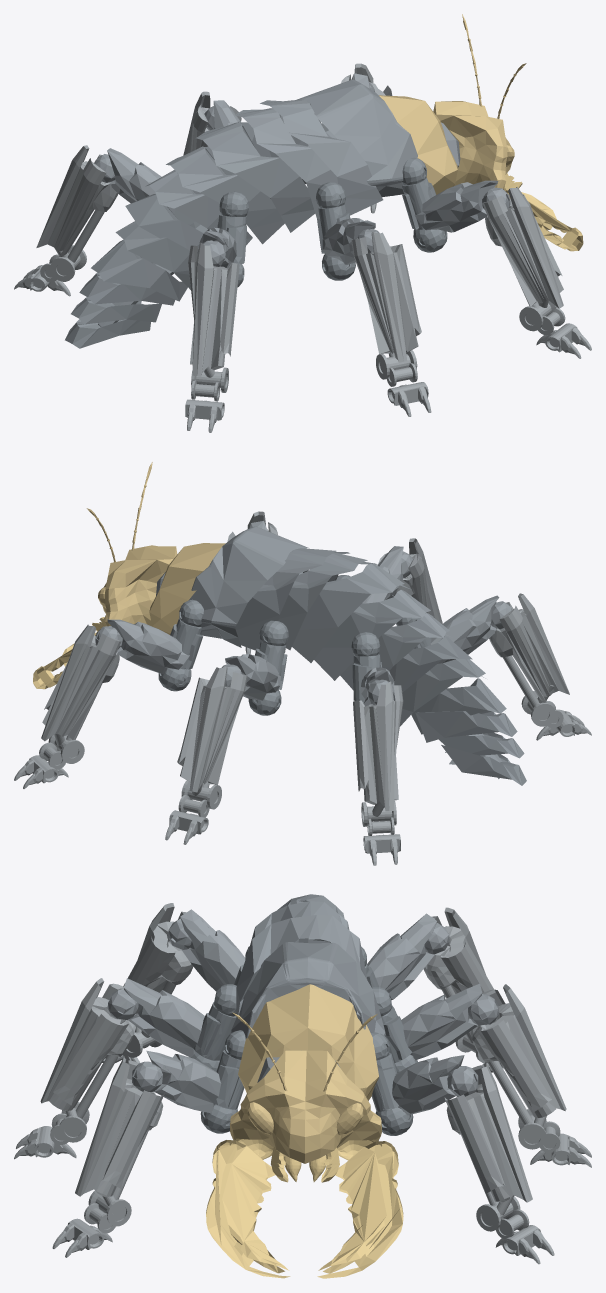
3 views of the same model, one above another, from view 1: azimuth 30°, elevation 25°; view 2: azimuth 150°, elevation 25°; view 3: azimuth 270°, elevation 25° (orthographic). The views are drawn at different scales.
Visible parts, largest first — view 1: trunk, tail, head, LM_tibia, LF_tibia, LH_tibia, RH_tibia, LF_femur, LF_coxa, RH_femur, LM_coxa, LM_femur (+5 smaller); view 2: trunk, tail, head, RM_tibia, RF_tibia, RH_tibia, LH_tibia, RF_femur, LH_femur, RF_coxa, RM_coxa, RM_femur (+5 smaller); view 3: head, trunk, LF_tibia, RM_tibia, RF_tibia, LM_tibia, mandible_R, mandible_L, LM_femur, RM_femur, LH_tibia, LF_femur (+8 smaller).
Part boxes in pixels (bbox=[...]): trunk: bbox=[98, 79, 460, 326]; tail: bbox=[65, 194, 203, 348]; head: bbox=[379, 14, 526, 194]; LM_tibia: bbox=[351, 232, 431, 416]; LF_tibia: bbox=[482, 187, 591, 358]; LH_tibia: bbox=[185, 242, 239, 432]; RH_tibia: bbox=[14, 145, 117, 296]; LF_femur: bbox=[414, 180, 510, 232]; LF_coxa: bbox=[401, 157, 447, 252]; RH_femur: bbox=[94, 148, 161, 203]; LM_coxa: bbox=[316, 182, 355, 280]; LM_femur: bbox=[322, 218, 379, 264]; trunk: bbox=[156, 526, 502, 778]; tail: bbox=[389, 636, 526, 785]; head: bbox=[86, 462, 225, 634]; RM_tibia: bbox=[165, 666, 247, 844]; RF_tibia: bbox=[14, 624, 121, 788]; RH_tibia: bbox=[353, 681, 403, 865]; LH_tibia: bbox=[489, 593, 591, 740]; RF_femur: bbox=[95, 619, 189, 674]; LH_femur: bbox=[430, 595, 511, 663]; RF_coxa: bbox=[158, 599, 203, 691]; RM_coxa: bbox=[248, 620, 288, 715]; RM_femur: bbox=[222, 654, 280, 700]; head: bbox=[230, 984, 381, 1163]; trunk: bbox=[231, 894, 385, 1082]; LF_tibia: bbox=[52, 1057, 164, 1257]; RM_tibia: bbox=[471, 984, 591, 1167]; RF_tibia: bbox=[444, 1062, 554, 1264]; LM_tibia: bbox=[14, 978, 135, 1159]; mandible_R: bbox=[309, 1139, 403, 1278]; mandible_L: bbox=[206, 1138, 301, 1278]; LM_femur: bbox=[107, 978, 204, 1057]; RM_femur: bbox=[401, 983, 498, 1059]; LH_tibia: bbox=[102, 903, 193, 1063]; LF_femur: bbox=[132, 1050, 221, 1112].
Bounding box in the file's own units: 3.97 × 1.78 × 3.67.
